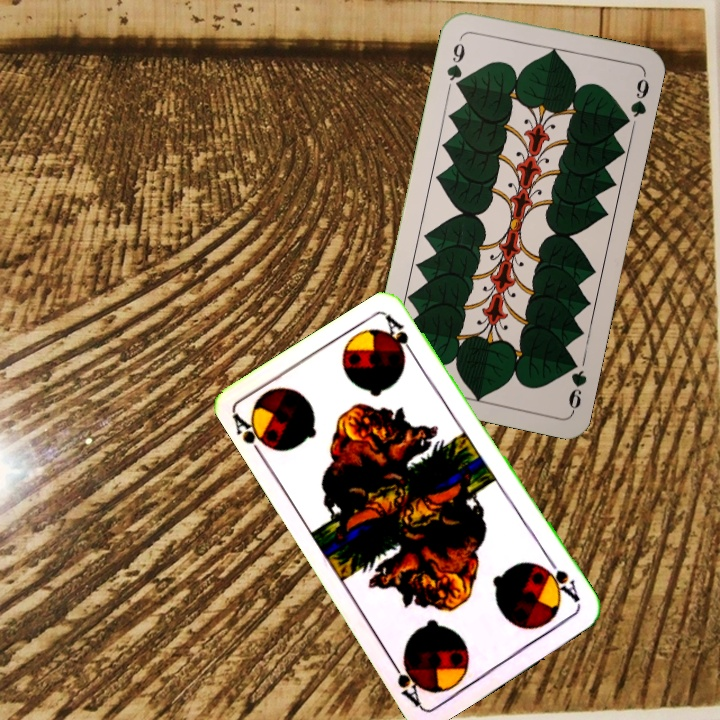G9: (442, 32, 468, 93), (564, 353, 590, 414)
SA: (228, 407, 278, 463), (538, 556, 583, 609)
